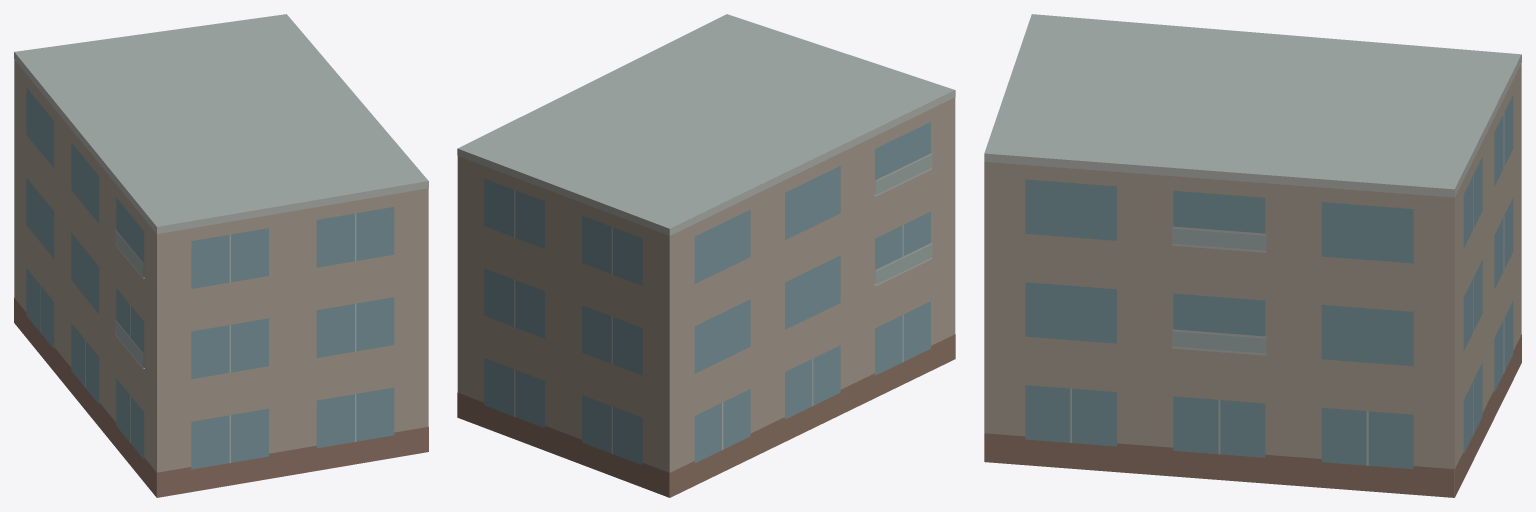
File: survey-upis-32681732.glb
3 renders of one model, left to right at view 1: azimuth 30°, elevation 25°; view 2: azimuth 150°, elevation 25°; view 3: azimuth 270°, elevation 25°, orthographic. The views are drawn at different scales.
Parts seen in each view (by area): view 1: survey-upis-32681732.tmp; view 2: survey-upis-32681732.tmp; view 3: survey-upis-32681732.tmp.
Boxes of the visible parts, x1=… form: survey-upis-32681732.tmp: x1=14, y1=14, x2=428, y2=497; survey-upis-32681732.tmp: x1=457, y1=14, x2=955, y2=497; survey-upis-32681732.tmp: x1=984, y1=14, x2=1521, y2=497.
Size of the model in its own units: 11.16 by 9.15 by 14.46.
